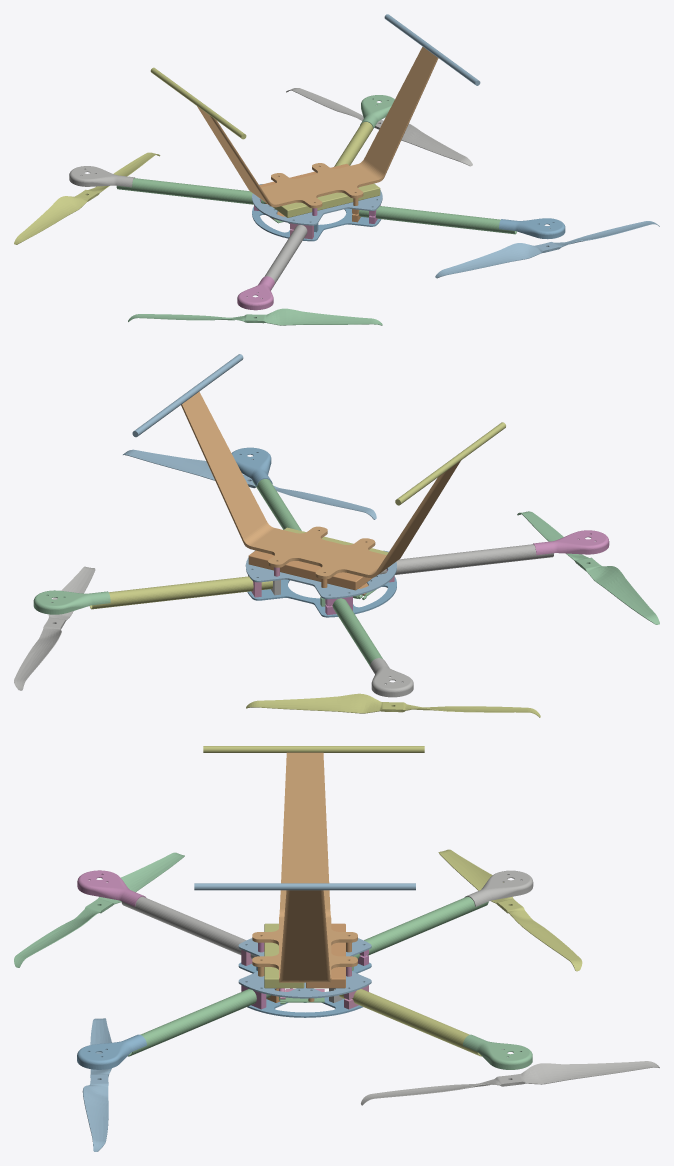
Rendered from case-05_ground_truth.glb.
3 views of the same model, one above another, from view 1: azimuth 30°, elevation 25°; view 2: azimuth 150°, elevation 25°; view 3: azimuth 270°, elevation 25° (orthographic). The views are drawn at different scales.
Parts seen in each view (by area): view 1: c00023, c00018, c00042, c00004, c00001, c00037, c00038, c00006, c00021, c00020, c00005, c00010 (+6 smaller); view 2: c00023, c00001, c00011, c00015, c00018, c00038, c00042, c00006, c00009, c00028, c00022, c00010 (+6 smaller); view 3: c00023, c00038, c00018, c00001, c00042, c00004, c00011, c00015, c00037, c00006, c00026, c00033 (+7 smaller).
Boxes of the visible parts, x1,y1,x2,y2 form: c00023: (197, 46, 438, 208); c00018: (128, 308, 382, 325); c00042: (435, 221, 659, 278); c00004: (358, 206, 516, 234); c00001: (14, 152, 160, 244); c00037: (116, 178, 265, 204); c00038: (286, 88, 472, 166); c00006: (252, 183, 382, 225); c00021: (273, 183, 380, 217); c00020: (499, 218, 565, 239); c00005: (69, 166, 134, 187); c00010: (252, 206, 380, 241); c00023: (181, 391, 460, 579); c00001: (246, 693, 540, 717); c00011: (89, 576, 272, 609); c00015: (379, 544, 553, 574); c00018: (517, 511, 659, 624); c00038: (14, 566, 95, 690); c00042: (123, 449, 376, 519); c00006: (245, 550, 396, 599); c00009: (248, 550, 372, 590); c00028: (33, 590, 110, 614); c00022: (533, 530, 609, 555); c00010: (247, 576, 396, 617); c00023: (252, 752, 357, 982); c00038: (361, 1061, 659, 1105); c00018: (14, 852, 184, 967); c00001: (438, 849, 582, 971); c00042: (82, 1018, 111, 1151); c00004: (128, 989, 270, 1056); c00011: (339, 989, 481, 1056); c00015: (121, 896, 256, 959); c00037: (354, 896, 488, 959); c00006: (238, 938, 371, 998); c00026: (194, 883, 415, 890); c00033: (203, 746, 424, 752).
Bounding box in the file's own units: 800 × 229 × 729.
